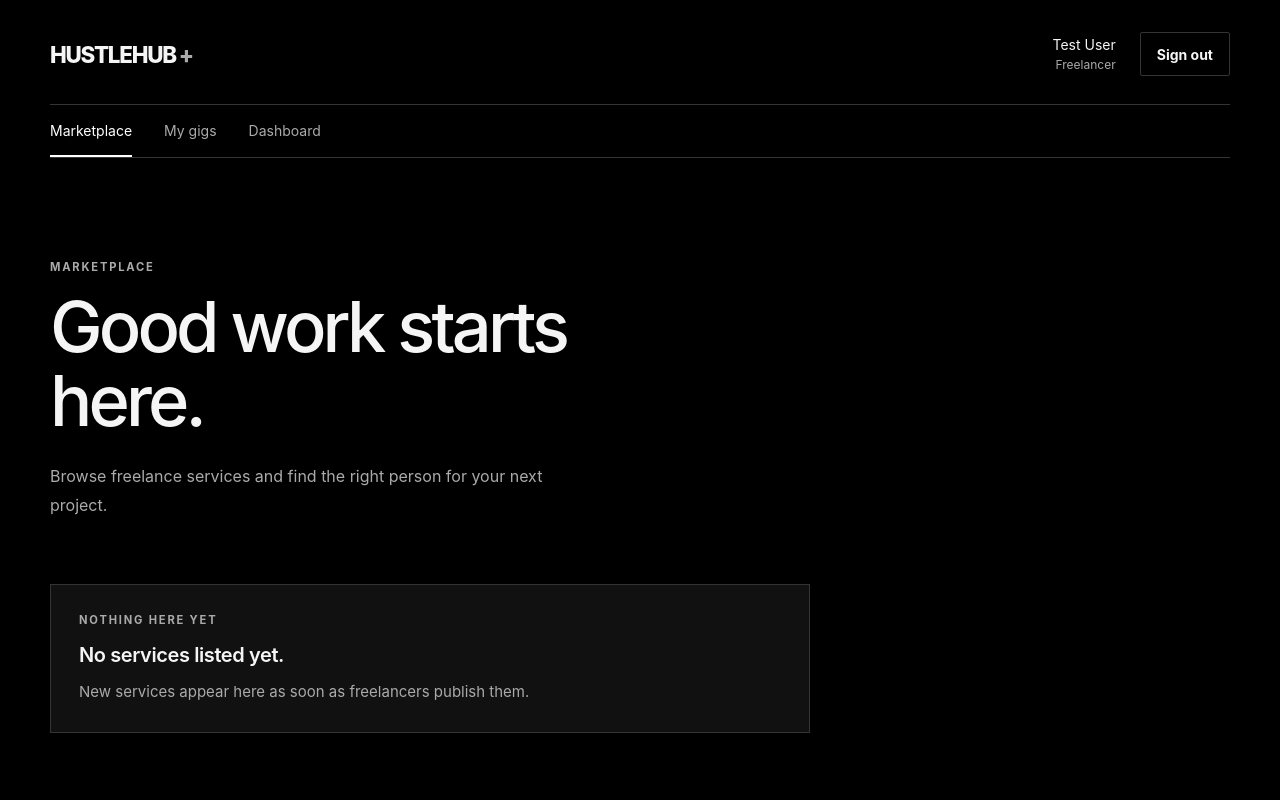
server-side sign-out › clears local state and warns if the API cannot confirm revocation
Click the button "Sign out" at (1185, 54), box [1140, 32, 1230, 76]
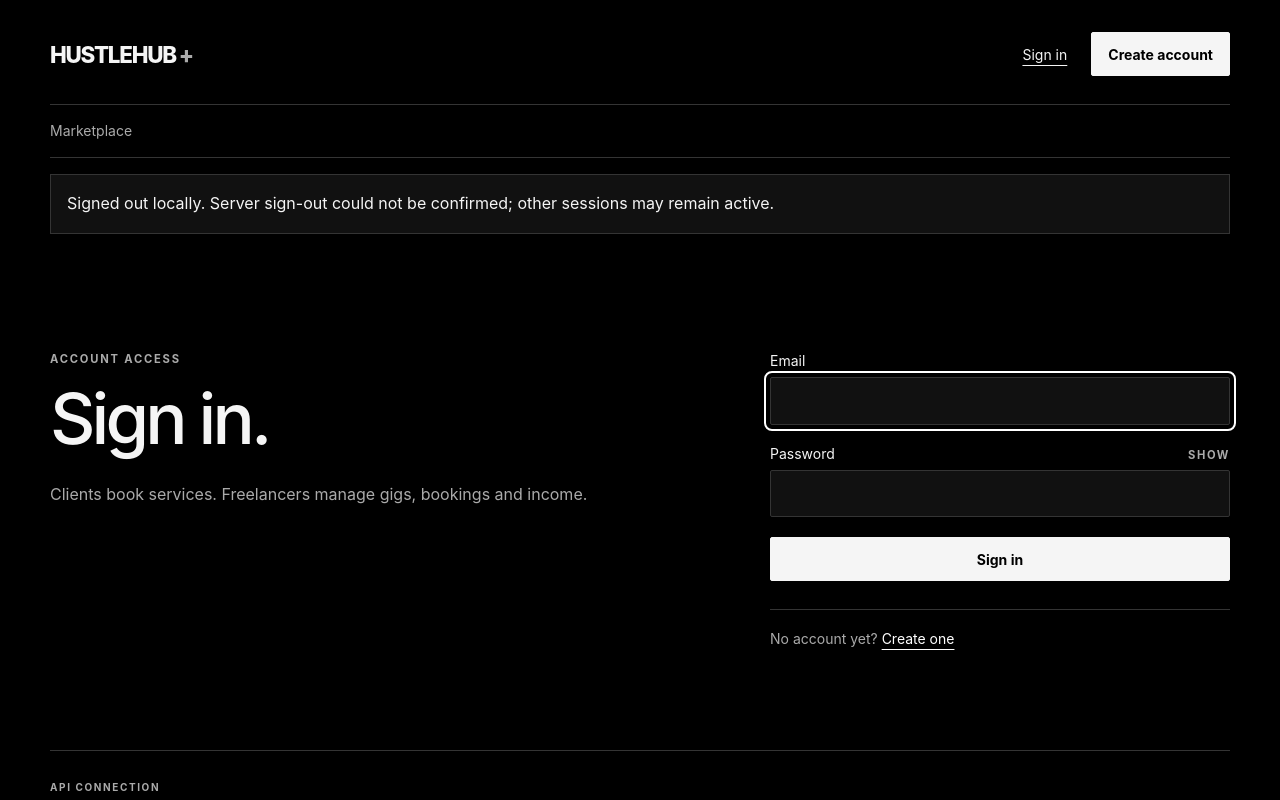
Result: the heading "Sign in." is shown at [50, 376, 268, 461]
Result: the text "Server sign-out could not be confirmed" is shown at [67, 193, 774, 213]
